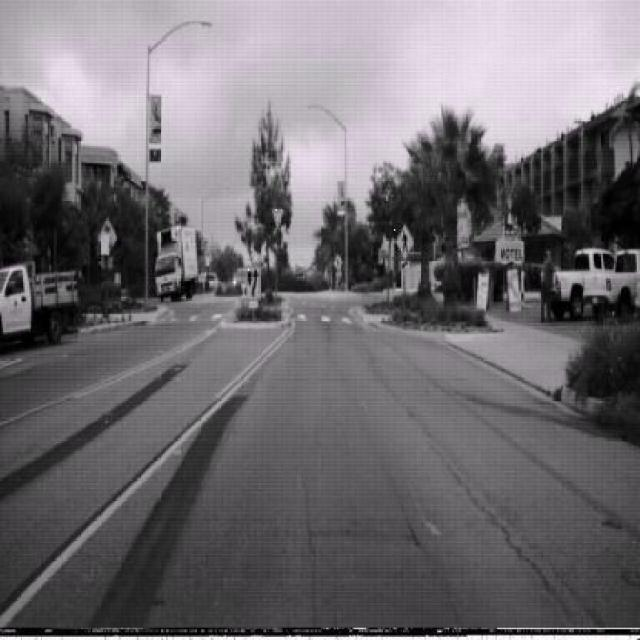keepRight: (245, 263, 260, 301)
pedestrianCrossing: (394, 221, 413, 259)
yield: (271, 206, 283, 231)
